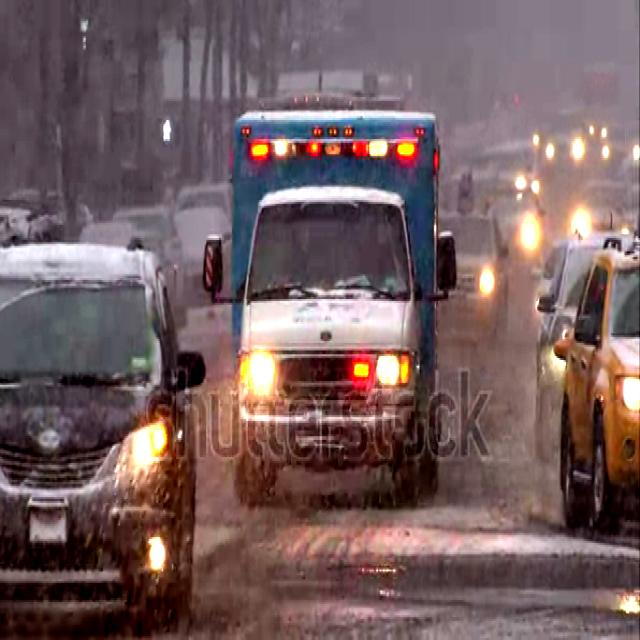ambulance: (203, 109, 454, 514)
